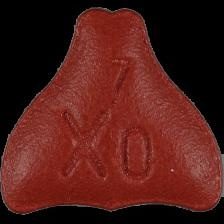50458-579: (0, 0, 224, 224)
